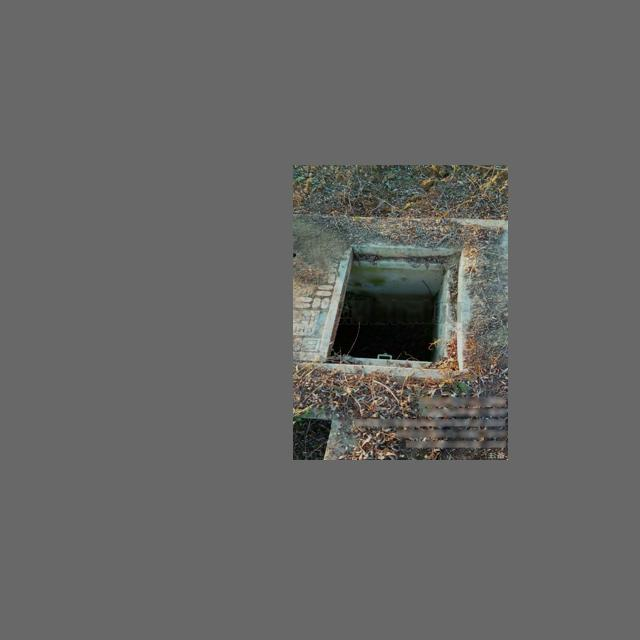lose: (318, 242, 471, 377)
